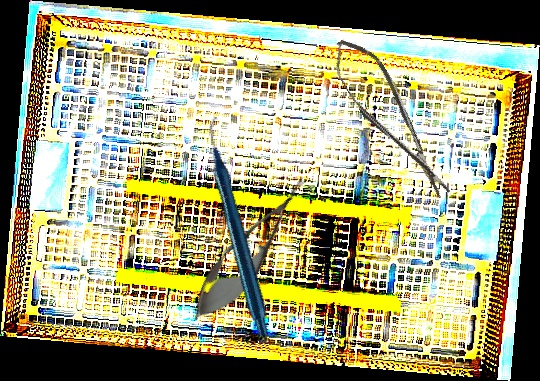Handpiece: (143, 116, 337, 338)
Micro Scissor: (323, 28, 459, 210), (179, 164, 322, 334)
